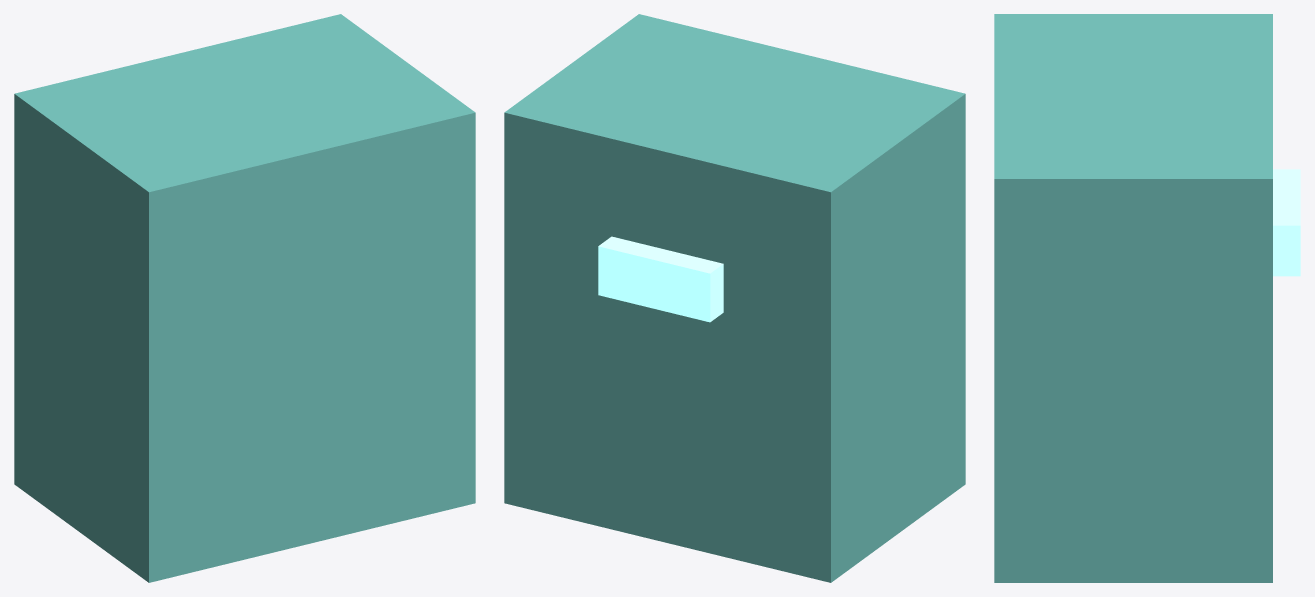
Rendered from ascent_bot.glb.
The picture shows the model from 3 angles, left to right: view 1: azimuth 30°, elevation 25°; view 2: azimuth 150°, elevation 25°; view 3: azimuth 270°, elevation 25°; orthographic projection. The views are drawn at different scales.
Parts seen in each view (by area): view 1: Body; view 2: Body, Eye; view 3: Body, Eye.
Part boxes in pixels (x1,y1,x2,y2): Body: (14, 14, 475, 582); Body: (504, 14, 965, 582); Eye: (598, 236, 723, 322); Body: (994, 14, 1272, 582); Eye: (1273, 169, 1300, 276).
Bounding box in the file's own units: 0.7 × 0.8 × 0.55.
